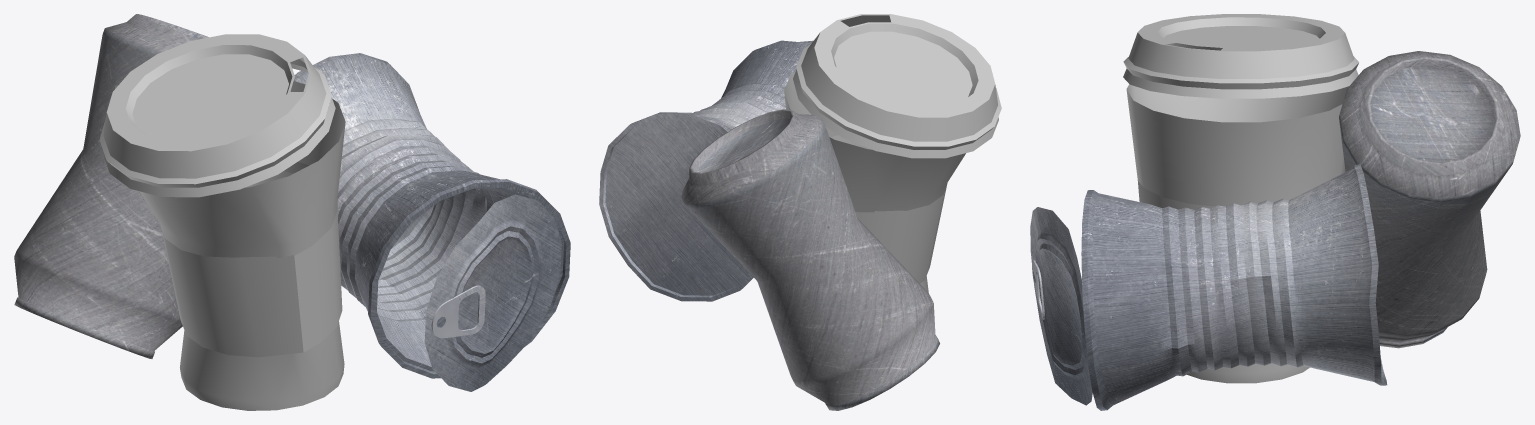
3 views of the same model, side by side, from view 1: azimuth 30°, elevation 25°; view 2: azimuth 150°, elevation 25°; view 3: azimuth 270°, elevation 25° (orthographic). The views are drawn at different scales.
Parts seen in each view (by area): view 1: coffee cup.003, can.003, cola can.001 lowpoly.003; view 2: cola can.001 lowpoly.003, coffee cup.003, can.003; view 3: can.003, coffee cup.003, cola can.001 lowpoly.003.
Boxes of the visible parts, <box> form: coffee cup.003: <box>99,34,345,410</box>; can.003: <box>293,53,570,391</box>; cola can.001 lowpoly.003: <box>14,14,208,358</box>; cola can.001 lowpoly.003: <box>680,109,939,410</box>; coffee cup.003: <box>784,14,1001,293</box>; can.003: <box>599,40,813,301</box>; can.003: <box>1030,164,1387,410</box>; coffee cup.003: <box>1123,14,1359,383</box>; cola can.001 lowpoly.003: <box>1339,51,1520,348</box>.
Size of the model in its own units: 130 by 109 by 143.
